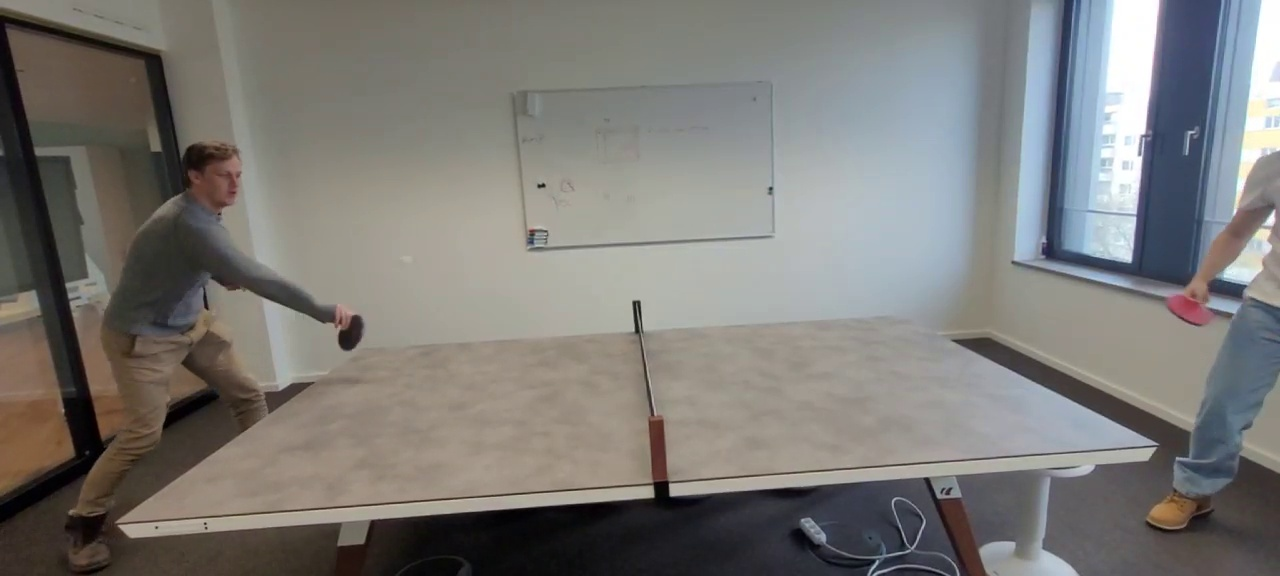1: (1168, 295, 1213, 326), (337, 314, 363, 350)
2: (401, 256, 413, 264)
ttplatte: (116, 316, 1157, 524)
